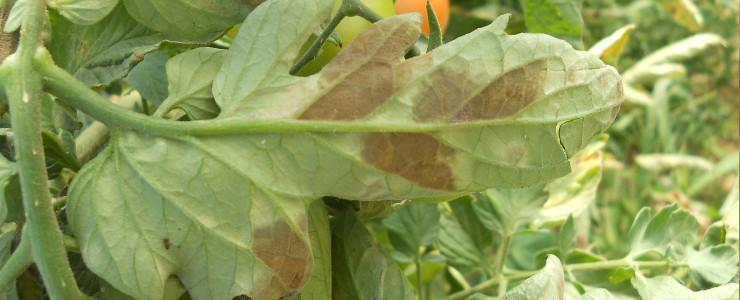Cladosporium: (297, 31, 552, 126), (357, 127, 457, 188), (248, 226, 318, 300), (160, 229, 184, 256)
